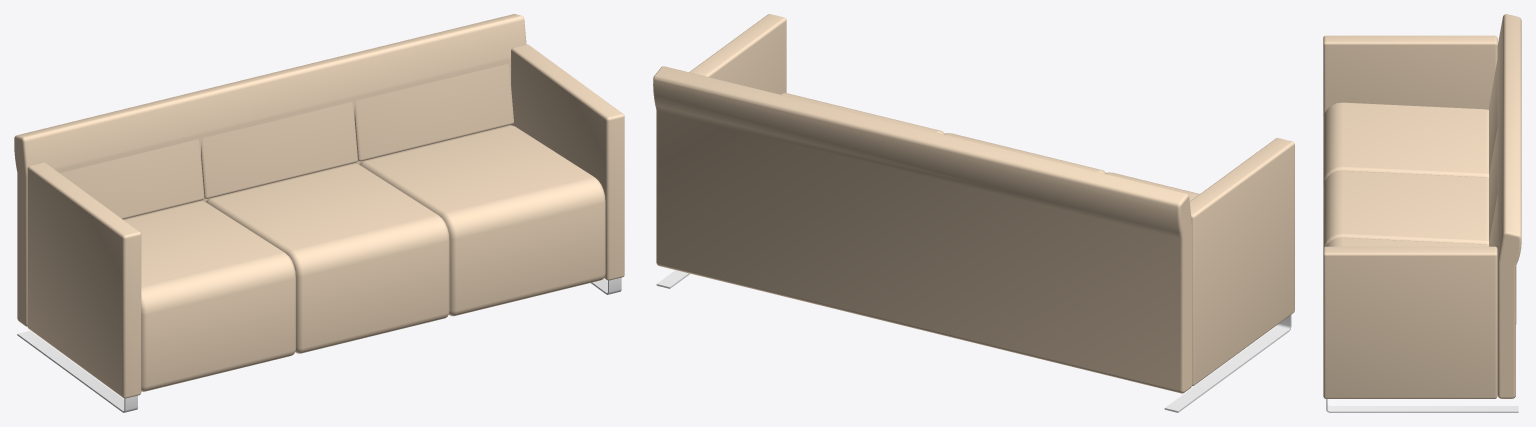
File: sofa.dae
3 views of the same model, side by side, from view 1: azimuth 30°, elevation 25°; view 2: azimuth 150°, elevation 25°; view 3: azimuth 270°, elevation 25° (orthographic). The views are drawn at different scales.
Parts seen in each view (by area): view 1: Quant_Seat, Quant_Arms_Rest, Quant_Seat_Back, Quant_Ct, Quant_Legs; view 2: Quant_Seat_Back, Quant_Arms_Rest, Quant_Legs, Quant_Seat; view 3: Quant_Arms_Rest, Quant_Seat, Quant_Seat_Back, Quant_Ct, Quant_Legs.
Part boxes in pixels (x1,y1,x2,y2): Quant_Seat: (124, 125, 605, 391); Quant_Arms_Rest: (27, 44, 624, 398); Quant_Seat_Back: (14, 14, 526, 326); Quant_Ct: (60, 64, 513, 219); Quant_Legs: (17, 277, 621, 412); Quant_Seat_Back: (653, 66, 1192, 393); Quant_Arms_Rest: (689, 14, 1294, 386); Quant_Legs: (656, 270, 1291, 412); Quant_Seat: (780, 93, 1199, 201); Quant_Arms_Rest: (1323, 35, 1497, 398); Quant_Seat: (1323, 102, 1488, 247); Quant_Seat_Back: (1497, 14, 1521, 398); Quant_Ct: (1489, 59, 1497, 248); Quant_Legs: (1326, 399, 1518, 412).
Bounding box in the file's own units: 58.87 × 22.81 × 22.53.
